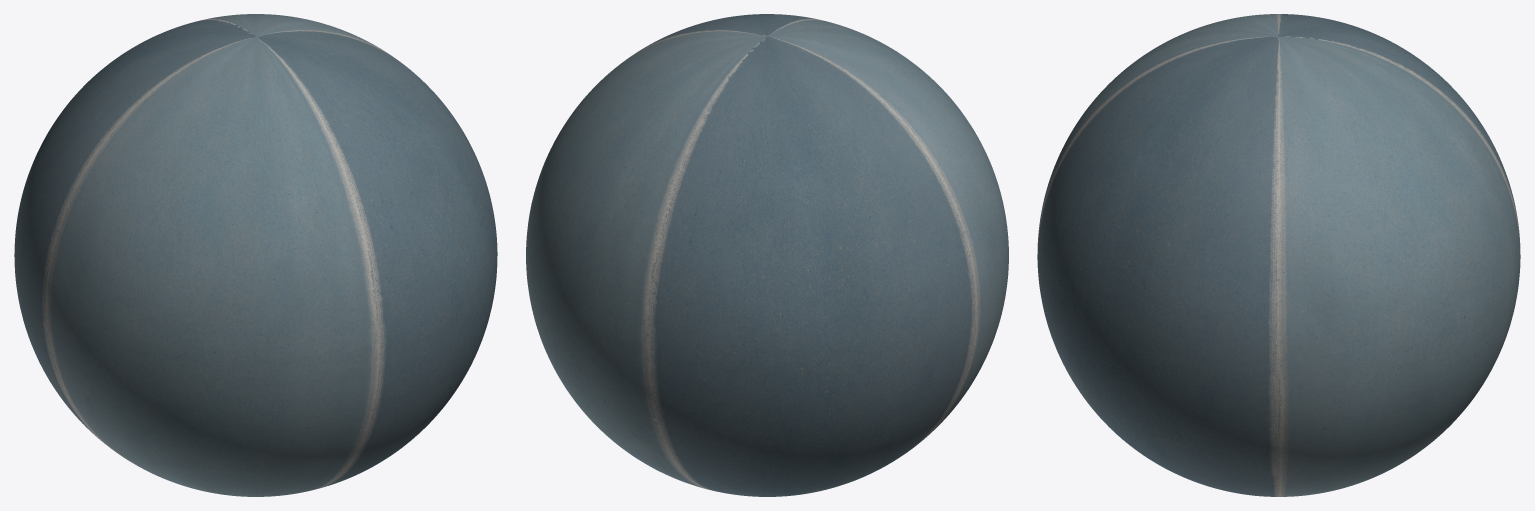
Rendered from running_track_1k.gltf.
The picture shows the model from 3 angles, left to right: view 1: azimuth 30°, elevation 25°; view 2: azimuth 150°, elevation 25°; view 3: azimuth 270°, elevation 25°; orthographic projection.
Parts seen in each view (by area): view 1: sphere_gltf; view 2: sphere_gltf; view 3: sphere_gltf.
Boxes of the visible parts, box(x1,y1,x2,y2) form: sphere_gltf: box(14, 14, 497, 496); sphere_gltf: box(526, 14, 1008, 496); sphere_gltf: box(1037, 14, 1520, 496).
Size of the model in its own units: 2.42 by 2.42 by 2.42.
1 material, 1 textured.
